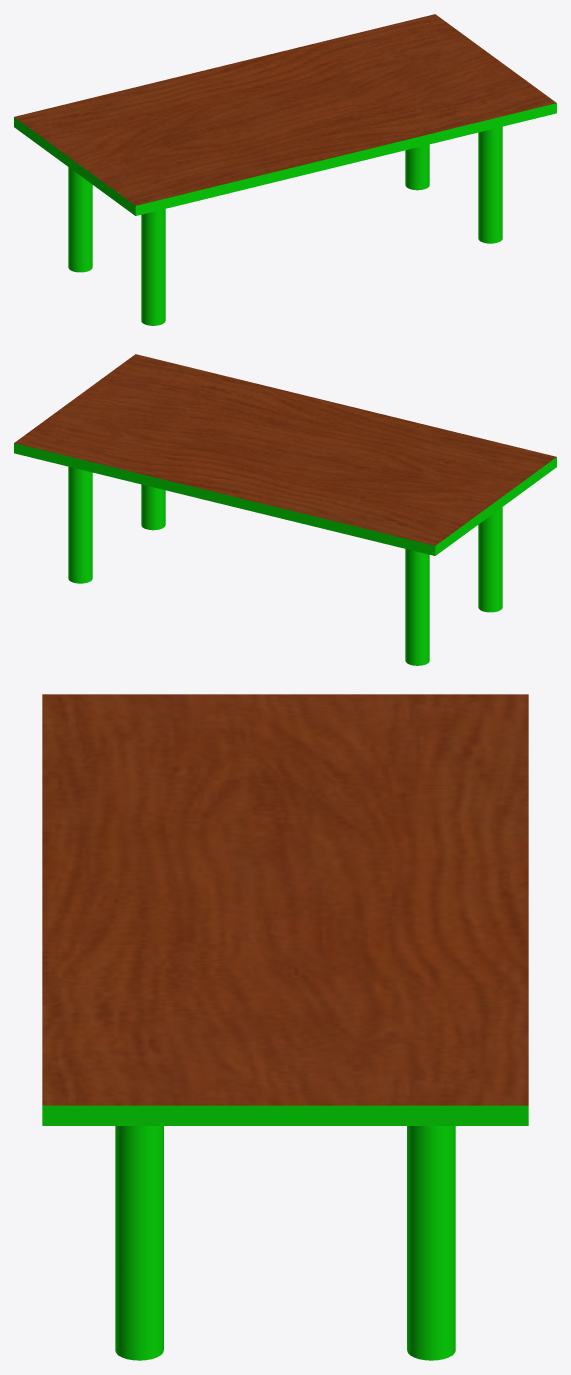
File: Table.glb
3 renders of one model, top to bottom at view 1: azimuth 30°, elevation 25°; view 2: azimuth 150°, elevation 25°; view 3: azimuth 270°, elevation 25°, orthographic. The views are drawn at different scales.
Parts seen in each view (by area): view 1: Root Node; view 2: Root Node; view 3: Root Node.
Boxes of the visible parts, x1,y1,x2,y2 form: Root Node: [14, 14, 556, 325]; Root Node: [14, 354, 556, 665]; Root Node: [42, 694, 528, 1360].
Bounding box in the file's own units: 2 × 0.6482 × 1.
Materials: 110 (5 with a texture image).
